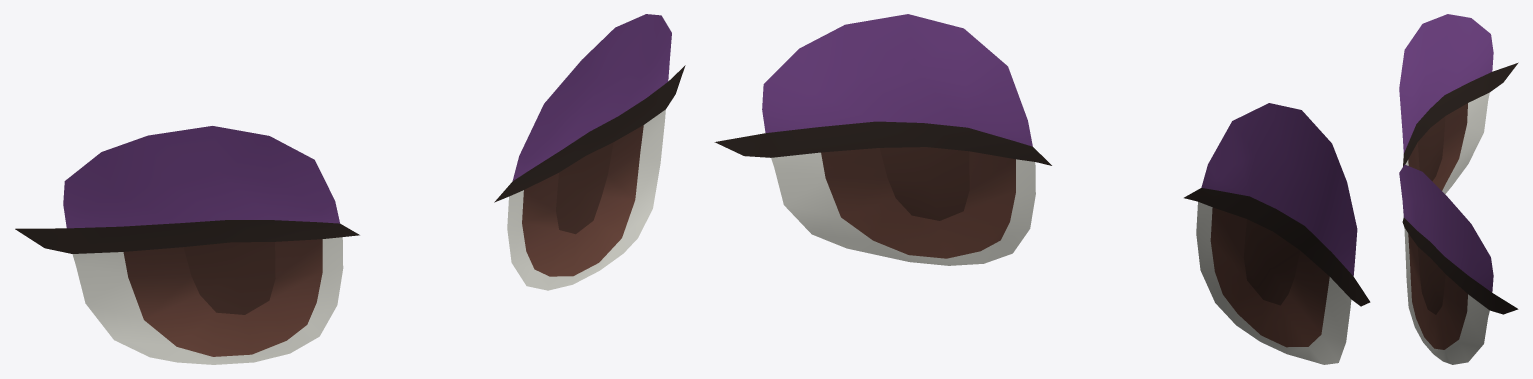
The model's file is Eye_Brown_7.fbx.
The picture shows the model from 3 angles, left to right: view 1: azimuth 30°, elevation 25°; view 2: azimuth 150°, elevation 25°; view 3: azimuth 270°, elevation 25°; orthographic projection. The views are drawn at different scales.
Parts seen in each view (by area): view 1: Eye_Brown_7; view 2: Eye_Brown_7; view 3: Eye_Brown_7.
Part boxes in pixels (x1,y1,x2,y2): Eye_Brown_7: (15,14,685,364); Eye_Brown_7: (714,14,1370,364); Eye_Brown_7: (1399,14,1518,364).
Bounding box in the file's own units: 41.23 × 14.51 × 8.45.
